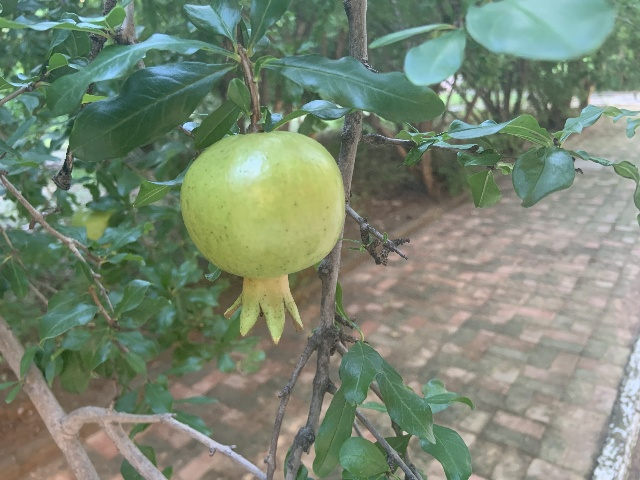mid-growth: (178, 130, 346, 343)
